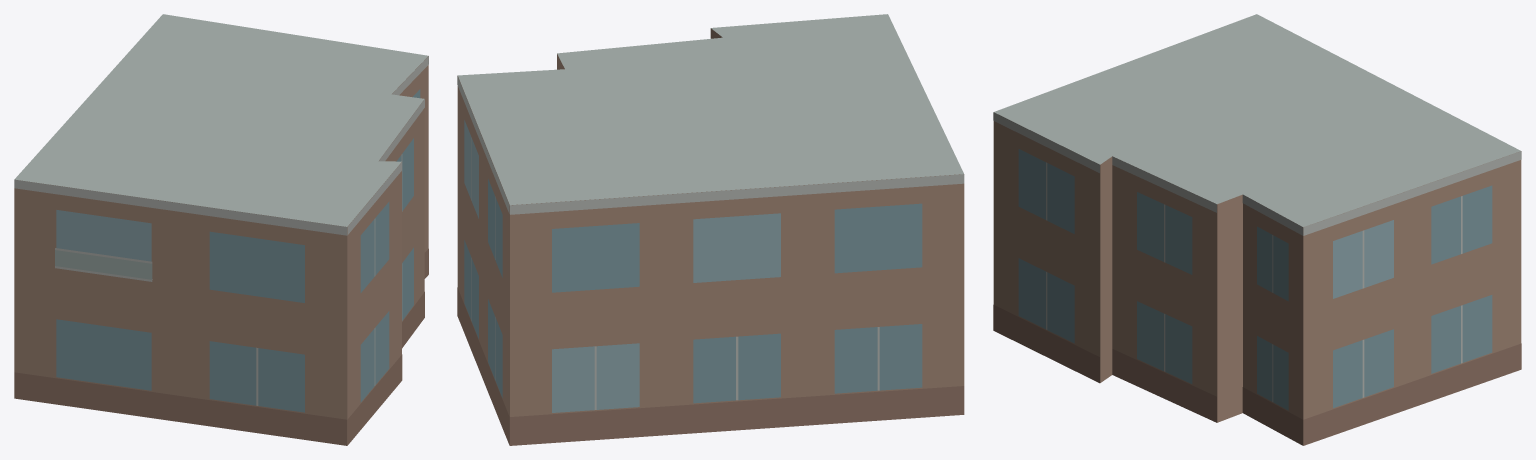
Rendered from survey-upis-32771634.glb.
3 renders of one model, left to right at view 1: azimuth 30°, elevation 25°; view 2: azimuth 150°, elevation 25°; view 3: azimuth 270°, elevation 25°, orthographic. The views are drawn at different scales.
Visible parts, largest first — view 1: survey-upis-32771634.tmp; view 2: survey-upis-32771634.tmp; view 3: survey-upis-32771634.tmp.
Part boxes in pixels (x1,y1,x2,y2): survey-upis-32771634.tmp: (14, 14, 428, 445); survey-upis-32771634.tmp: (457, 14, 964, 445); survey-upis-32771634.tmp: (993, 14, 1521, 445).
Bounding box in the file's own units: 12.77 × 6.1 × 13.36.
